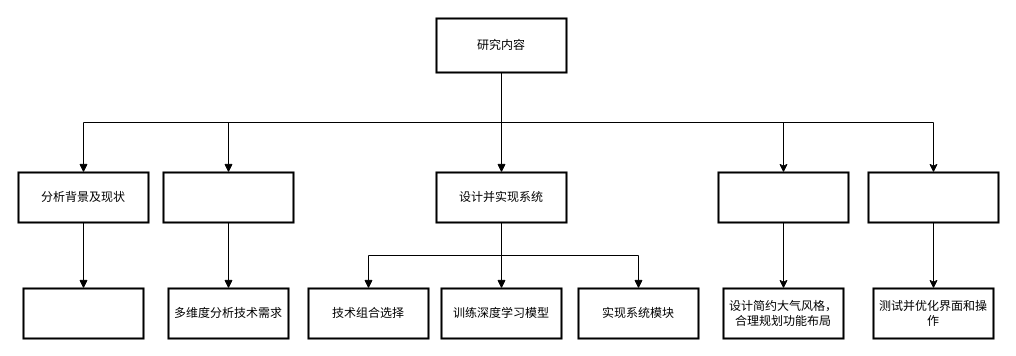
Image size: 1016x356. Some labels were removed from this diagram. Here are the shapes that lost their labels. From the top down, the box of each, then its label:
(162, 171, 294, 223): 分析需求
(717, 171, 849, 223): 优化界面与操作
(867, 171, 999, 223): 测试与修改
(22, 287, 144, 339): 梳理传统模式弊端、国内外现状
